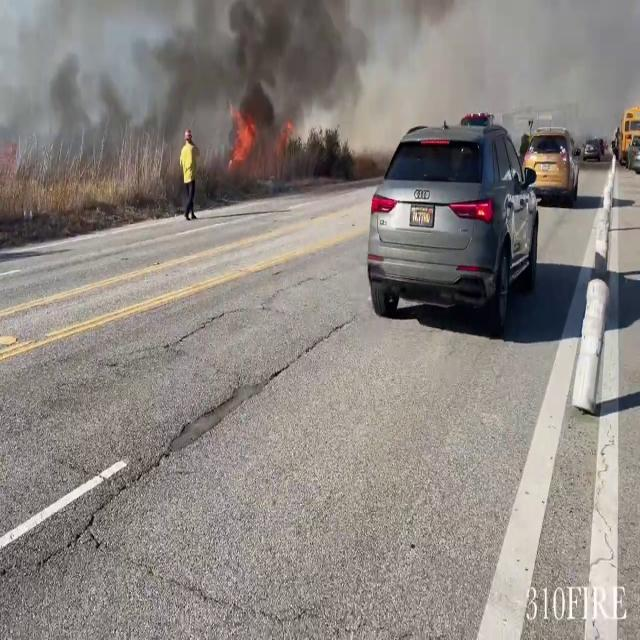Fire: (222, 100, 262, 168)
Smoke: (139, 0, 377, 158), (0, 0, 137, 191)
